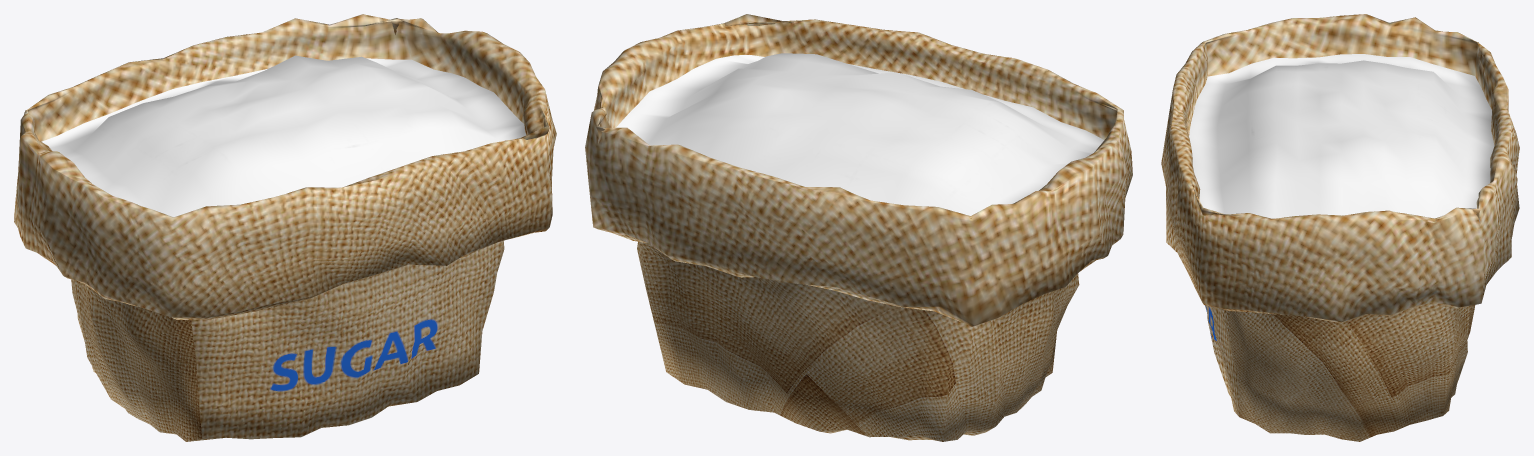
Rendered from Sugar.fbx.
3 renders of one model, left to right at view 1: azimuth 30°, elevation 25°; view 2: azimuth 150°, elevation 25°; view 3: azimuth 270°, elevation 25°, orthographic. The views are drawn at different scales.
Visible parts, largest first — view 1: SugarSacl; view 2: SugarSacl; view 3: SugarSacl.
Part boxes in pixels (x1=…): SugarSacl: x1=14, y1=14, x2=556, y2=441; SugarSacl: x1=585, y1=14, x2=1132, y2=441; SugarSacl: x1=1161, y1=14, x2=1519, y2=441.
Size of the model in its own units: 352 by 213 by 244.
1 material, 1 textured.
